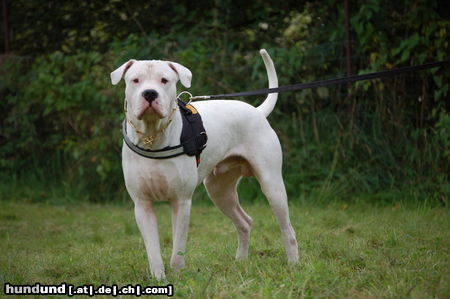dogo_argentino: (110, 48, 300, 279)
